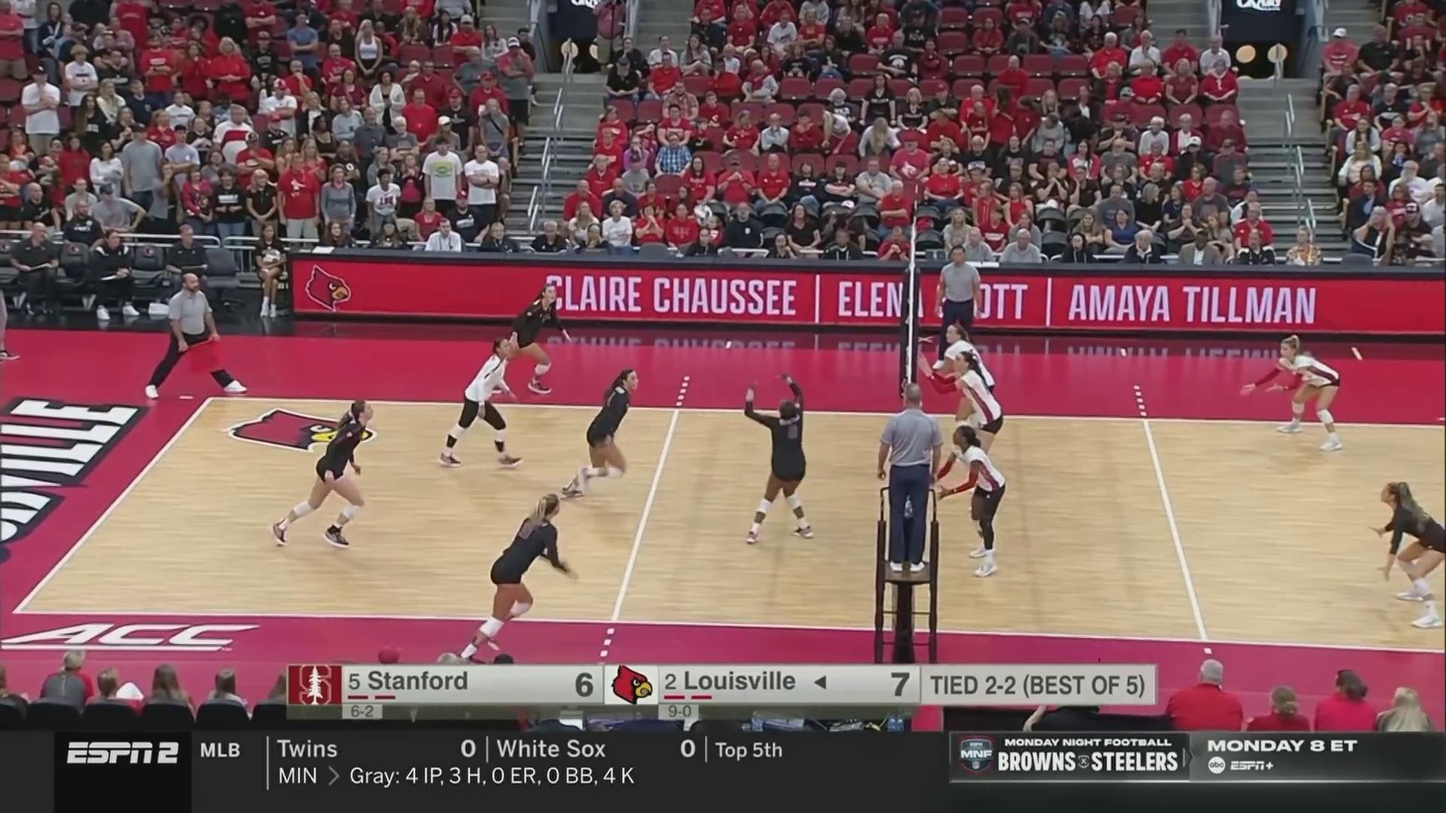player: (459, 492, 581, 664), (268, 402, 375, 549), (742, 380, 818, 541), (436, 337, 521, 468), (931, 354, 1003, 508), (1373, 483, 1446, 629), (560, 369, 639, 502), (1256, 338, 1343, 454), (939, 427, 1006, 575), (490, 286, 571, 395), (935, 325, 995, 458)
refree: (871, 394, 941, 574), (147, 273, 247, 394), (933, 245, 984, 375)
